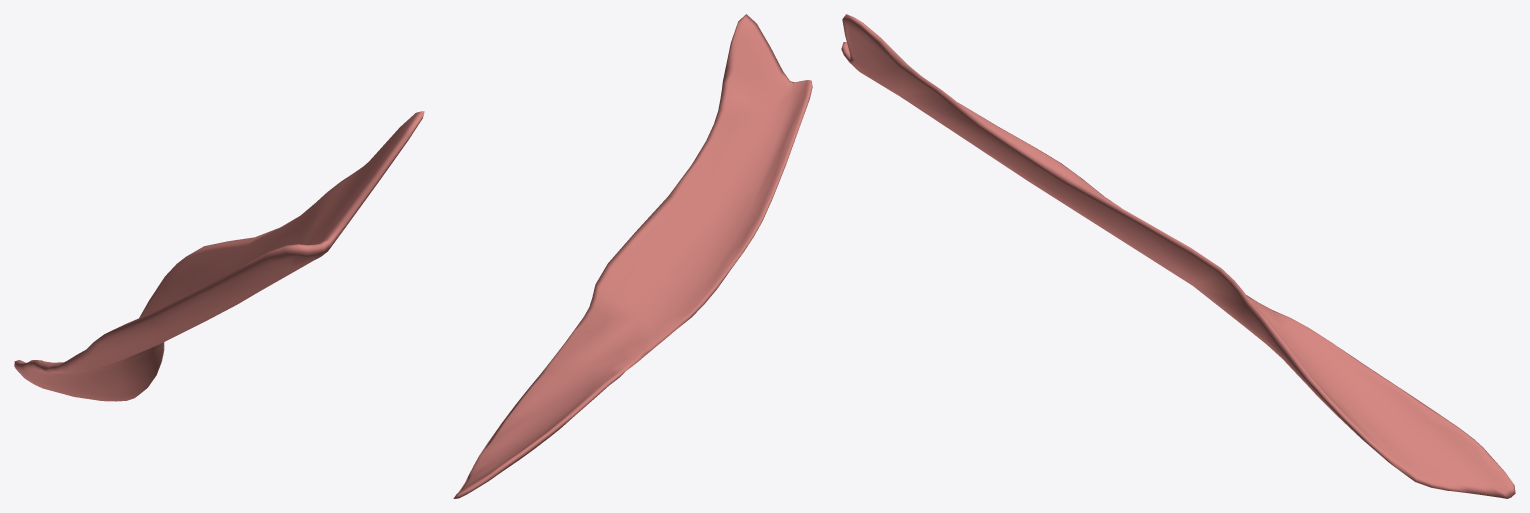
3 views of the same model, side by side, from view 1: azimuth 30°, elevation 25°; view 2: azimuth 150°, elevation 25°; view 3: azimuth 270°, elevation 25° (orthographic). The views are drawn at different scales.
Parts seen in each view (by area): view 1: ZA_0b227df94fec3d4c; view 2: ZA_0b227df94fec3d4c; view 3: ZA_0b227df94fec3d4c.
Part boxes in pixels (bbox=[...]): ZA_0b227df94fec3d4c: bbox=[14, 111, 424, 401]; ZA_0b227df94fec3d4c: bbox=[453, 14, 812, 498]; ZA_0b227df94fec3d4c: bbox=[841, 14, 1515, 498].
Size of the model in its own units: 0.0138 by 0.0293 by 0.04.
